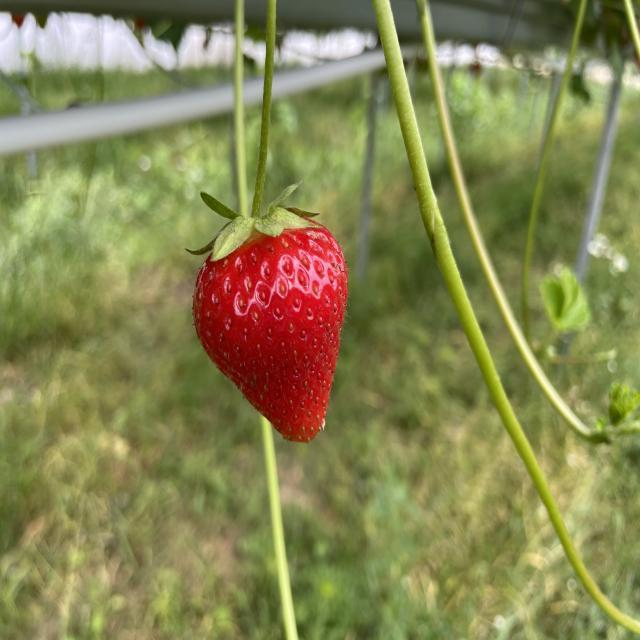stem: (190, 0, 315, 261)
strawberryR: (194, 226, 348, 441)
